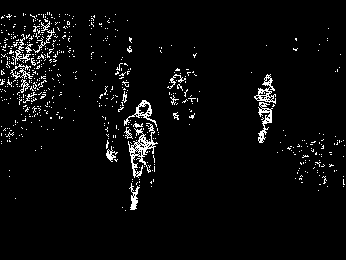person: (122, 101, 161, 216), (255, 73, 282, 150), (185, 65, 205, 133), (167, 67, 185, 123)
